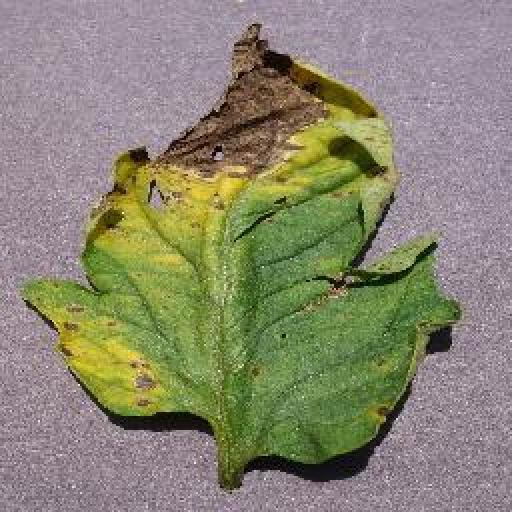Septoria: (27, 24, 463, 464)
